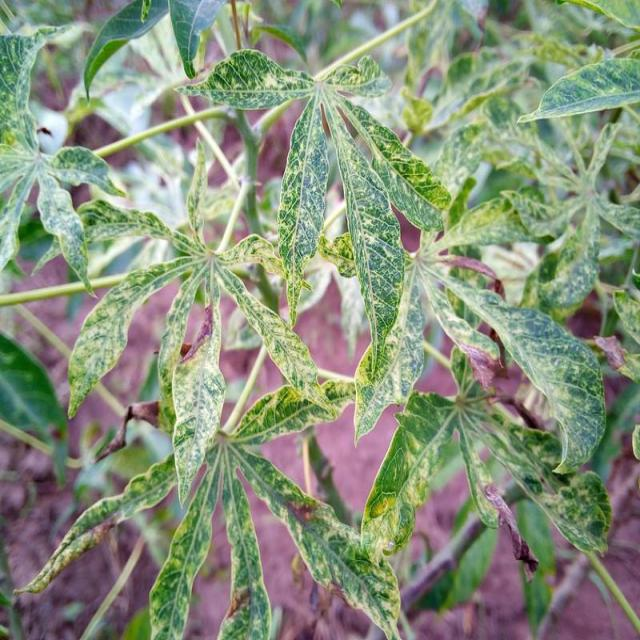cassava leaf: (2, 2, 626, 637)
